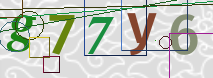6: (167, 11, 201, 57)
7: (44, 12, 80, 57), (85, 13, 115, 56)
g: (4, 10, 38, 57)
y: (122, 10, 160, 58)
